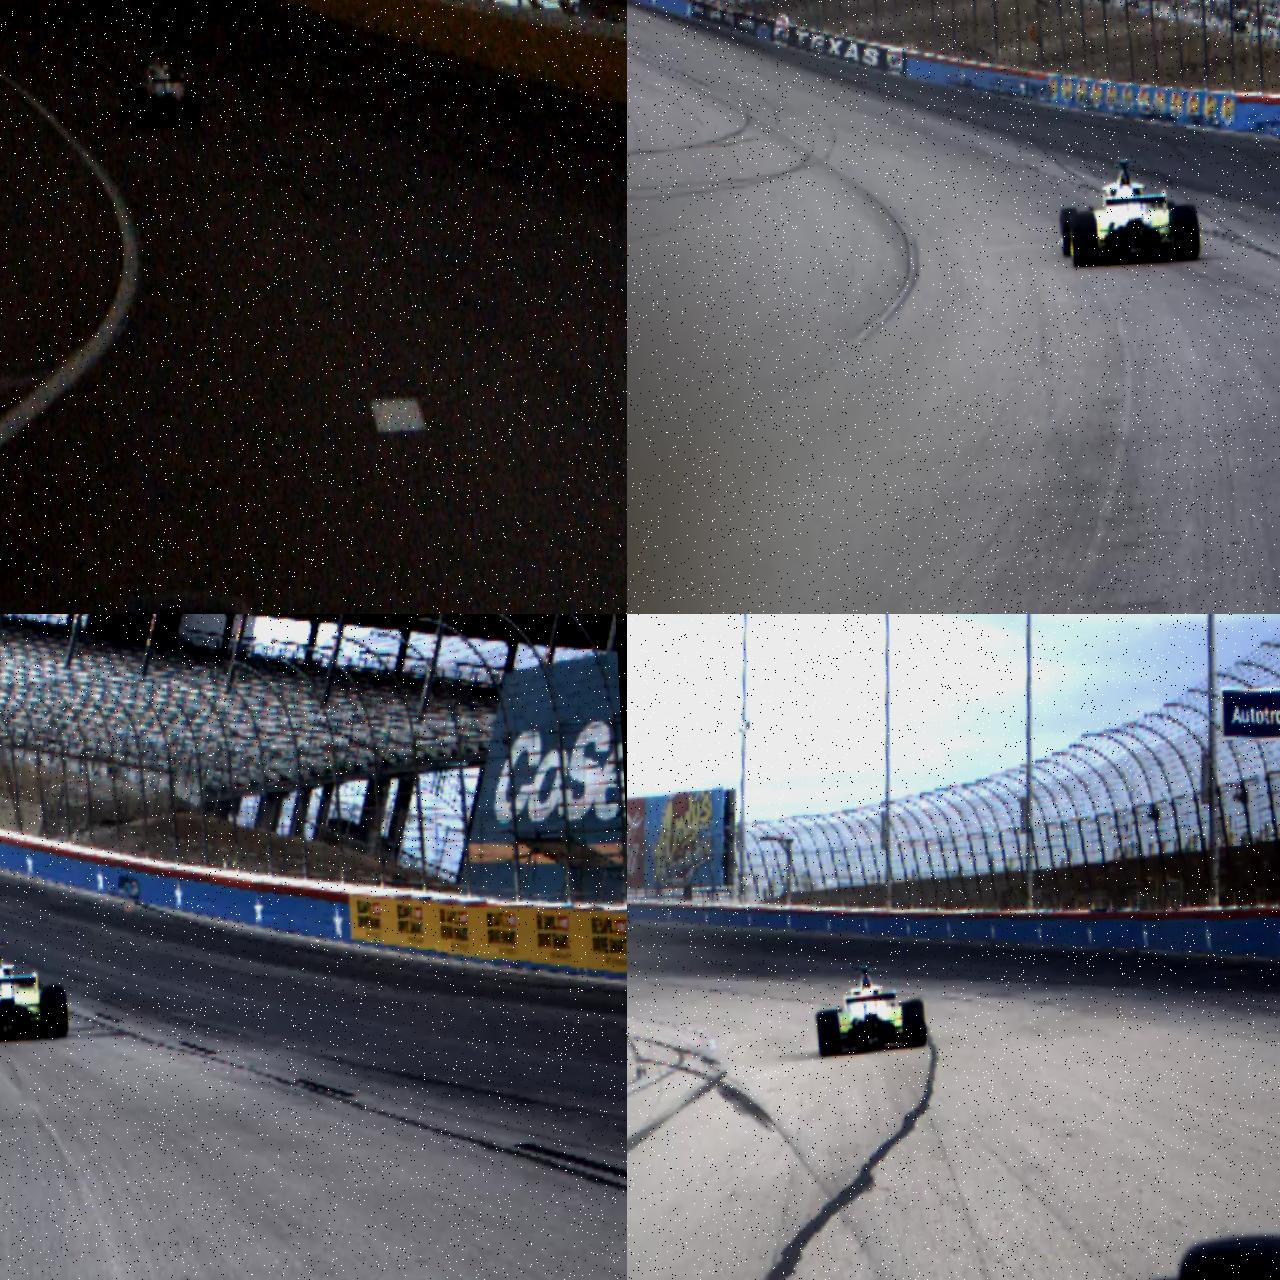AV: (1055, 154, 1200, 268), (812, 960, 927, 1057), (0, 937, 70, 1046), (118, 41, 202, 130)
Wheel: (1170, 203, 1200, 263), (1069, 211, 1098, 268), (39, 983, 69, 1039), (901, 999, 927, 1049), (816, 1008, 840, 1057), (1058, 206, 1080, 258), (132, 87, 150, 129), (186, 83, 202, 125), (121, 79, 136, 120)
